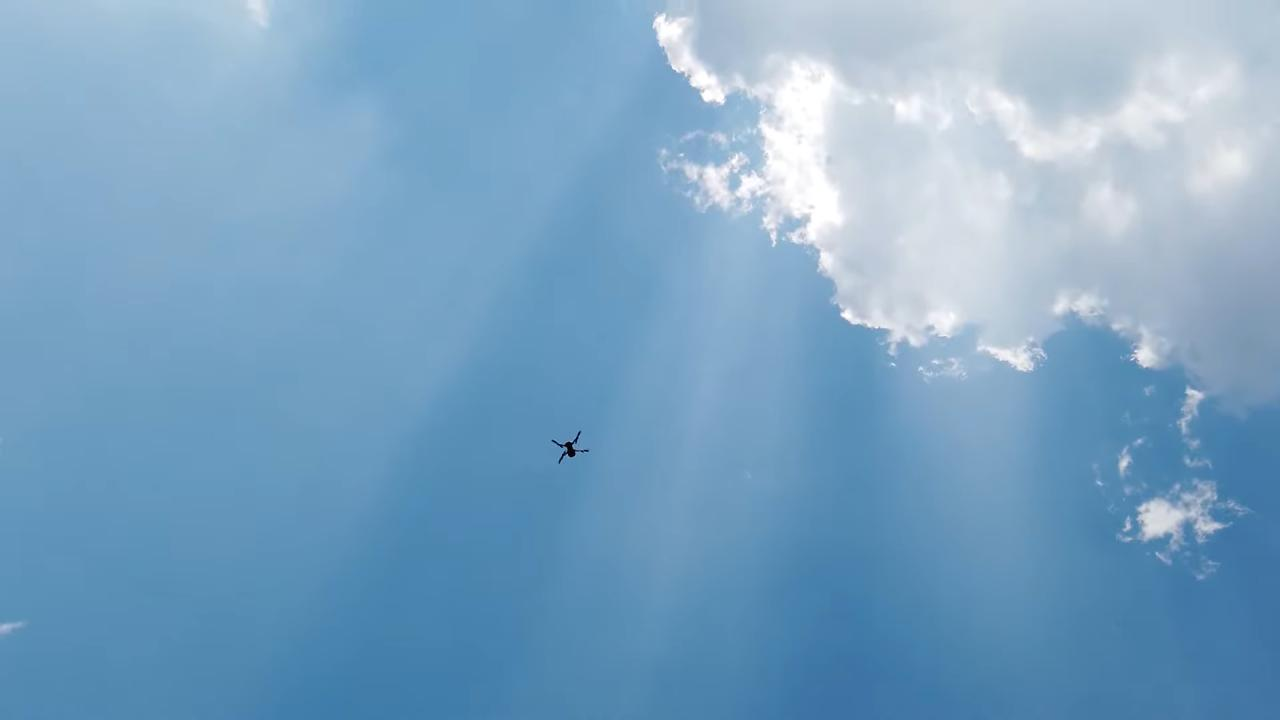Drone: (543, 425, 597, 469)
